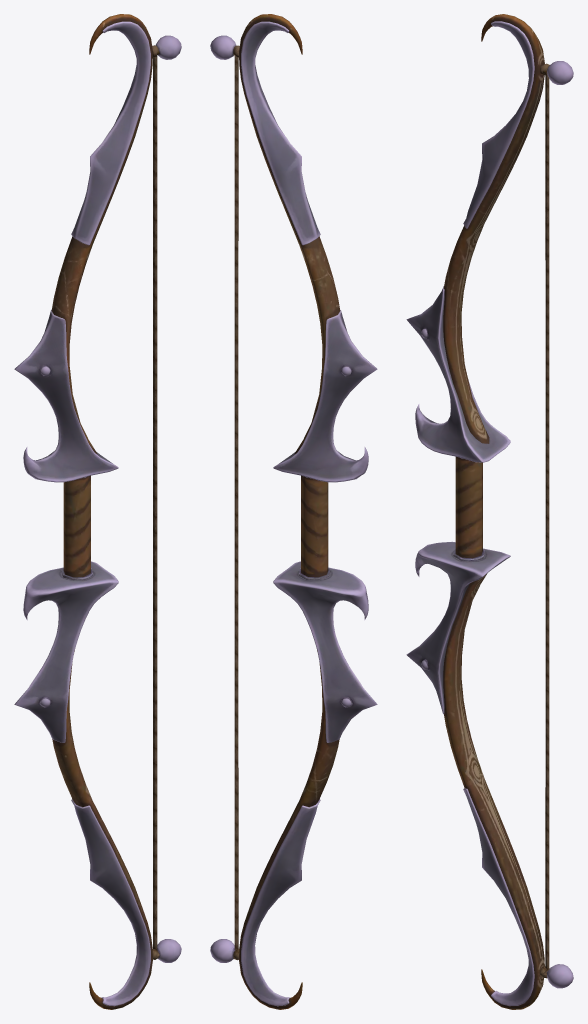
3 views of the same model, side by side, from view 1: azimuth 30°, elevation 25°; view 2: azimuth 150°, elevation 25°; view 3: azimuth 330°, elevation 25° (orthographic).
Visible parts, largest first — view 1: SM_Longbow_Maple_2H_01_LOD0; view 2: SM_Longbow_Maple_2H_01_LOD0; view 3: SM_Longbow_Maple_2H_01_LOD0.
Part boxes in pixels (bbox=[...]): SM_Longbow_Maple_2H_01_LOD0: bbox=[14, 14, 181, 1009]; SM_Longbow_Maple_2H_01_LOD0: bbox=[210, 14, 377, 1009]; SM_Longbow_Maple_2H_01_LOD0: bbox=[406, 14, 573, 1009].
Size of the model in its own units: 0.3363 by 1.92 by 0.1005.
1 material, 1 textured.
